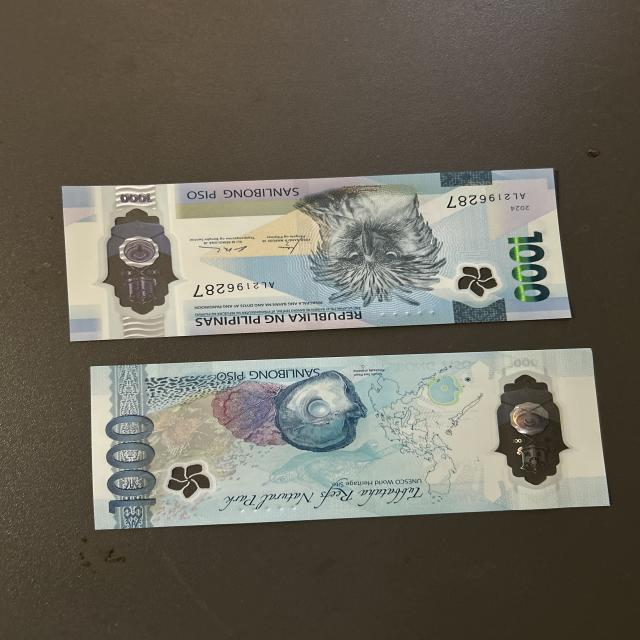clear_window: (94, 194, 181, 326), (487, 368, 578, 494)
eagle: (293, 190, 442, 304)
sampaguita: (449, 260, 502, 296), (169, 463, 216, 503)
serial_number: (443, 188, 534, 210), (188, 280, 282, 300)
value: (94, 416, 157, 511), (504, 232, 556, 306)
